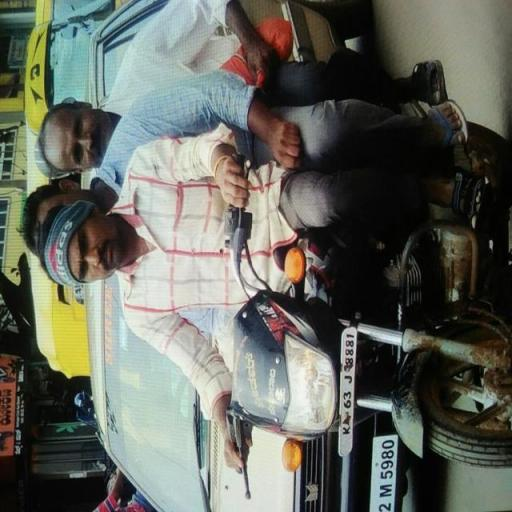tripple riding: (16, 0, 261, 421)
